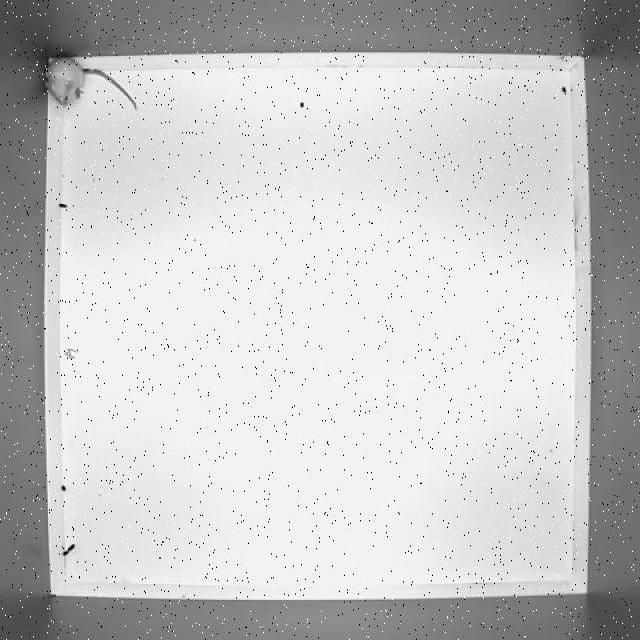rat: (42, 51, 142, 117)
